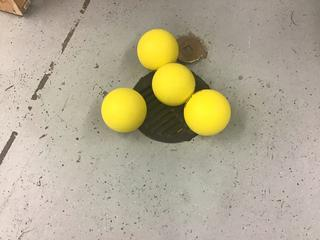power_cell: (180, 81, 231, 136), (151, 58, 193, 104), (103, 89, 145, 128), (138, 28, 178, 64)
